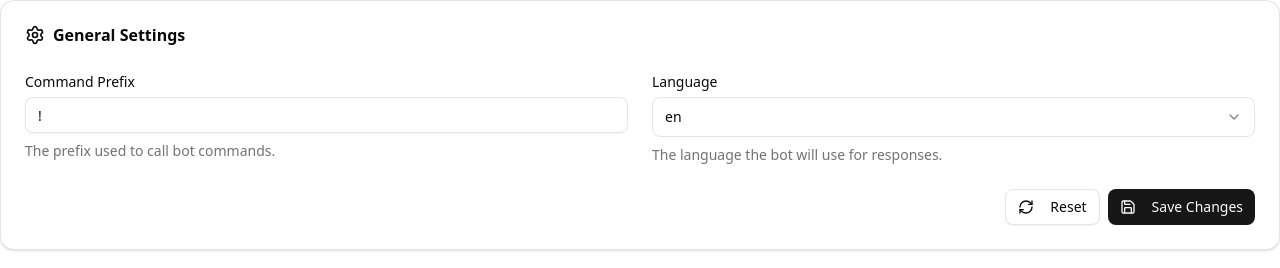
Test case: GeneralSettings › resets settings on reset button click
Change a value
Type "?" into the field labelled "Command Prefix" at [326, 115], box x1=25 y1=97 x2=628 y2=133
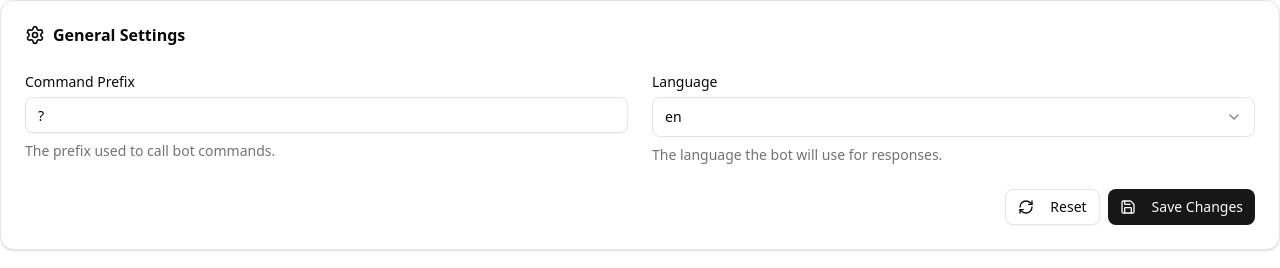
Click the reset button
Click the button "Reset" at [1052, 207], box x1=1005 y1=189 x2=1100 y2=225
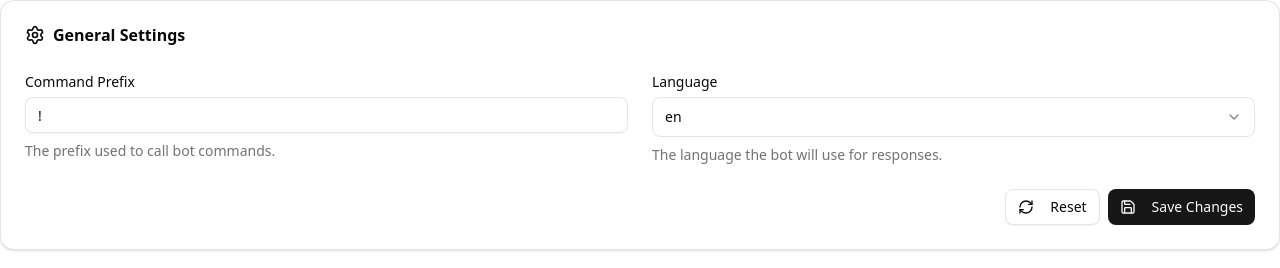
Expected: the field labelled "Command Prefix" holds "!", x1=25 y1=97 x2=628 y2=133
